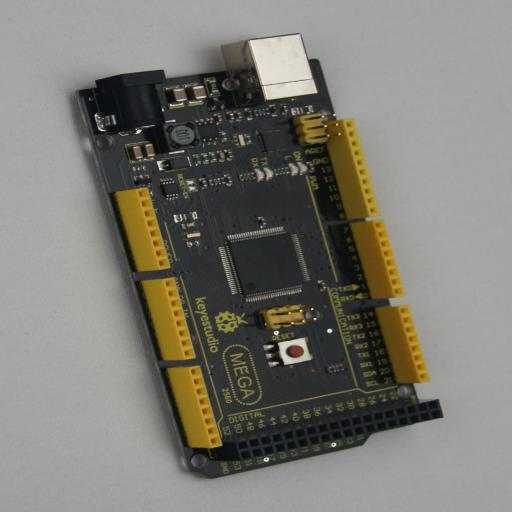Arduino Mega 2560 -Black and Yellow-: (70, 33, 444, 479)
